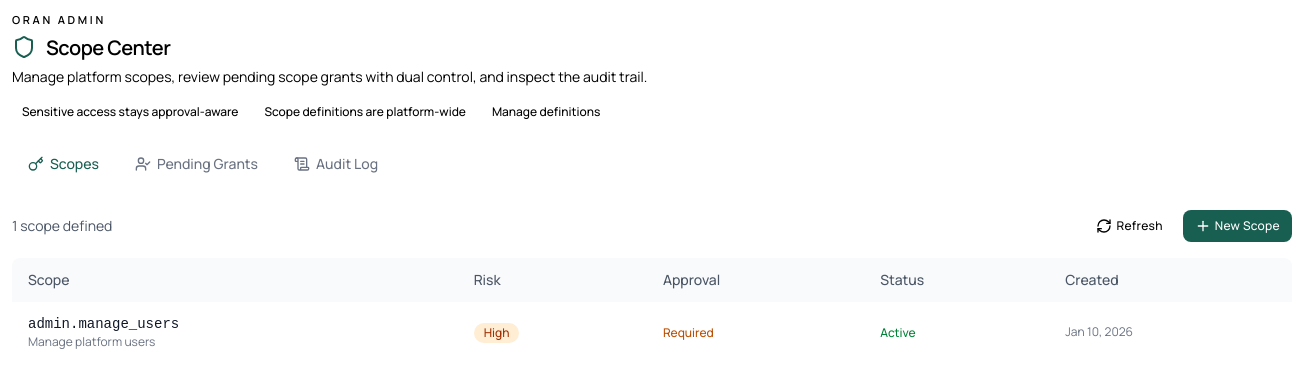
Test: oran admin scope center page › renders populated audit log rows with null-justification fallback
The image size is (1304, 366).
Expected: the text "admin.manage_users" is shown, [28, 316, 179, 332]
Click the tab "Audit Log" at (336, 164), box [278, 142, 394, 186]
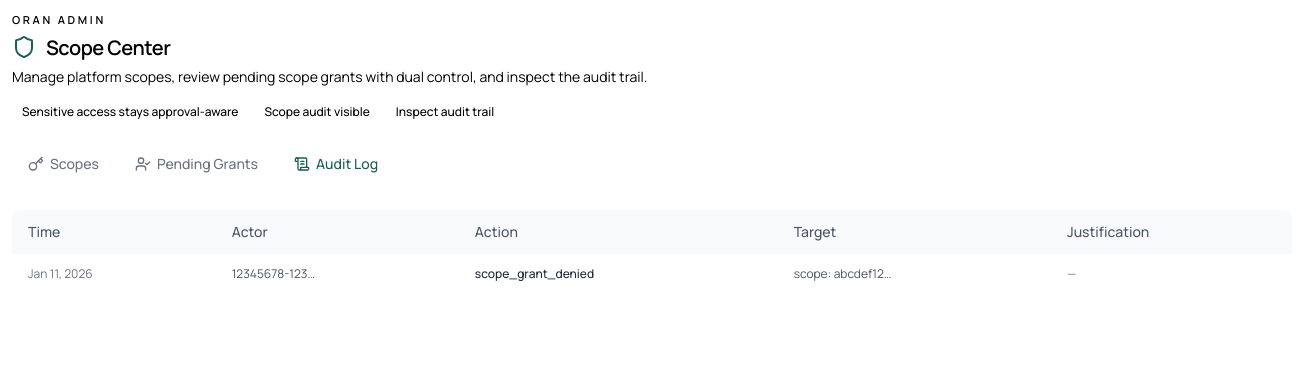
Expected: the text "scope_grant_denied" is shown, [459, 254, 778, 294]
Expected: the text "scope: abcdef12…" is shown, [778, 254, 1051, 294]
Expected: the text "—" is shown, [1051, 254, 1292, 294]
